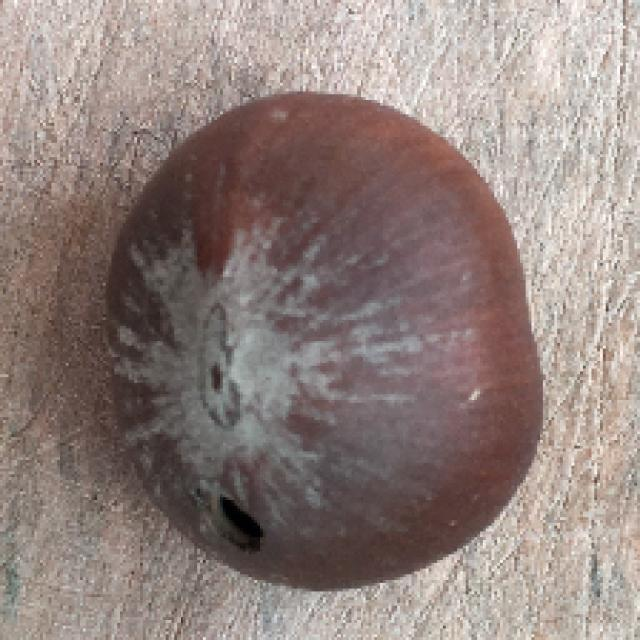DamagedHazelnut: (103, 88, 544, 592)
